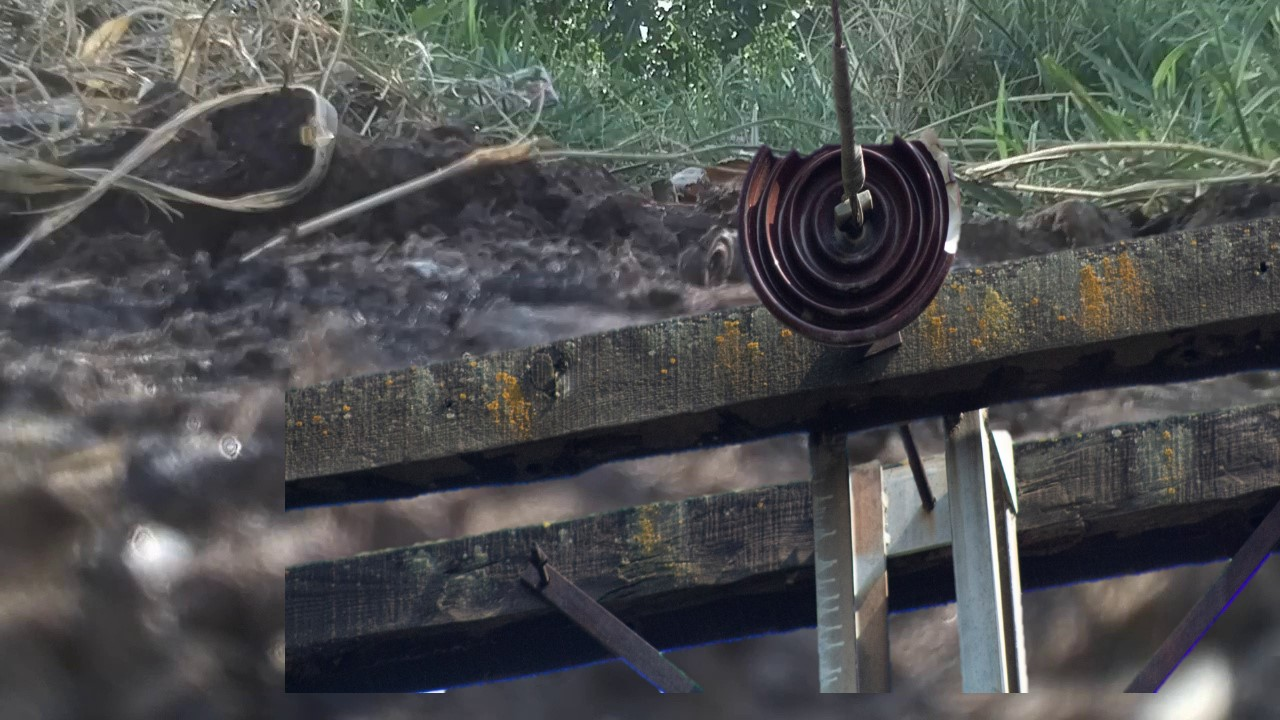defect_disc: (730, 131, 966, 354)
